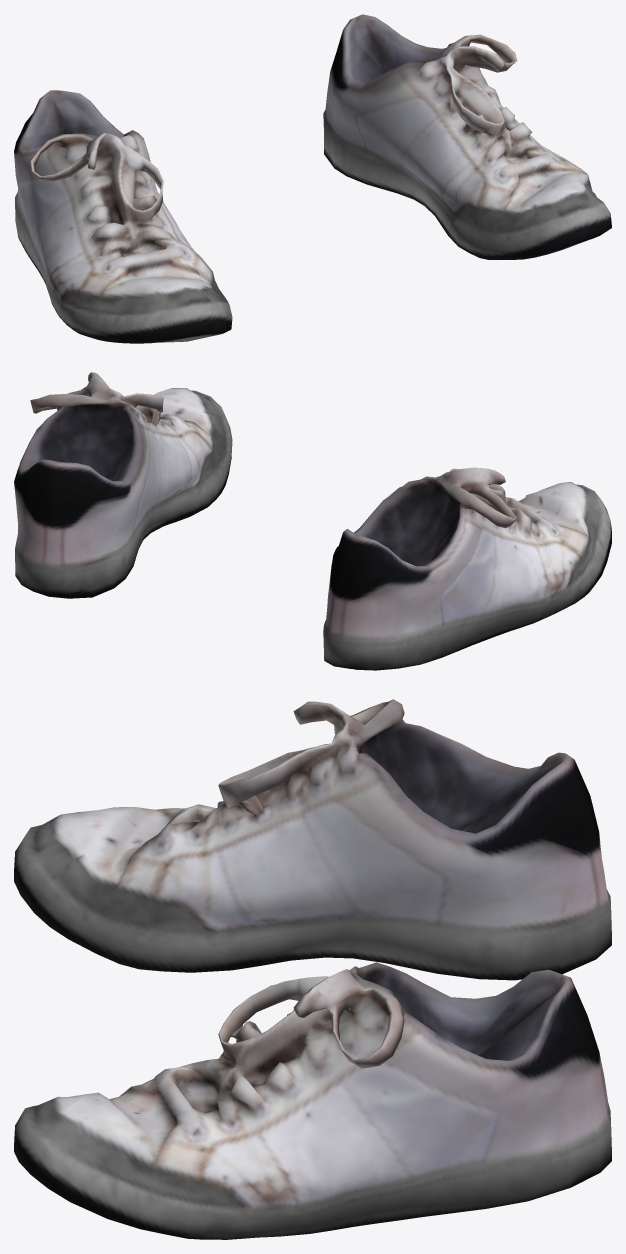
Rendered from OnlyFeet.fbx.
3 views of the same model, one above another, from view 1: azimuth 30°, elevation 25°; view 2: azimuth 150°, elevation 25°; view 3: azimuth 270°, elevation 25° (orthographic). The views are drawn at different scales.
Parts seen in each view (by area): view 1: SneakersLeft, SneakersRight; view 2: SneakersRight, SneakersLeft; view 3: SneakersLeft, SneakersRight.
Boxes of the visible parts, x1,y1,x2,y2 form: SneakersLeft: [323, 14, 611, 259]; SneakersRight: [14, 90, 232, 343]; SneakersRight: [323, 467, 611, 670]; SneakersLeft: [14, 372, 232, 598]; SneakersLeft: [14, 962, 611, 1239]; SneakersRight: [14, 699, 611, 980].
Size of the model in its own units: 47.66 by 13.57 by 32.49.
Materials: 1 (1 with a texture image).
